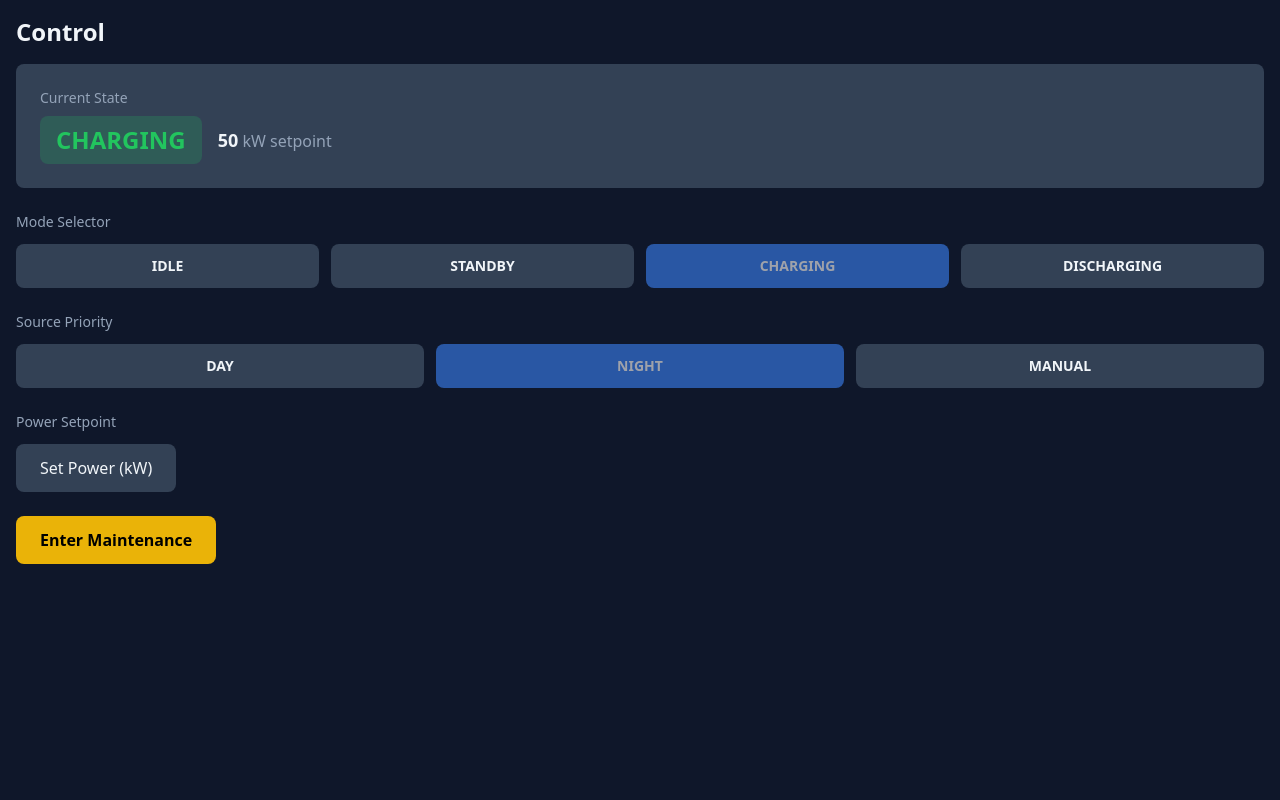
Test: ControlScreen › setpoint button opens numeric keypad
Click the button with test id "setpoint-btn" at (96, 468), box [16,444,176,492]
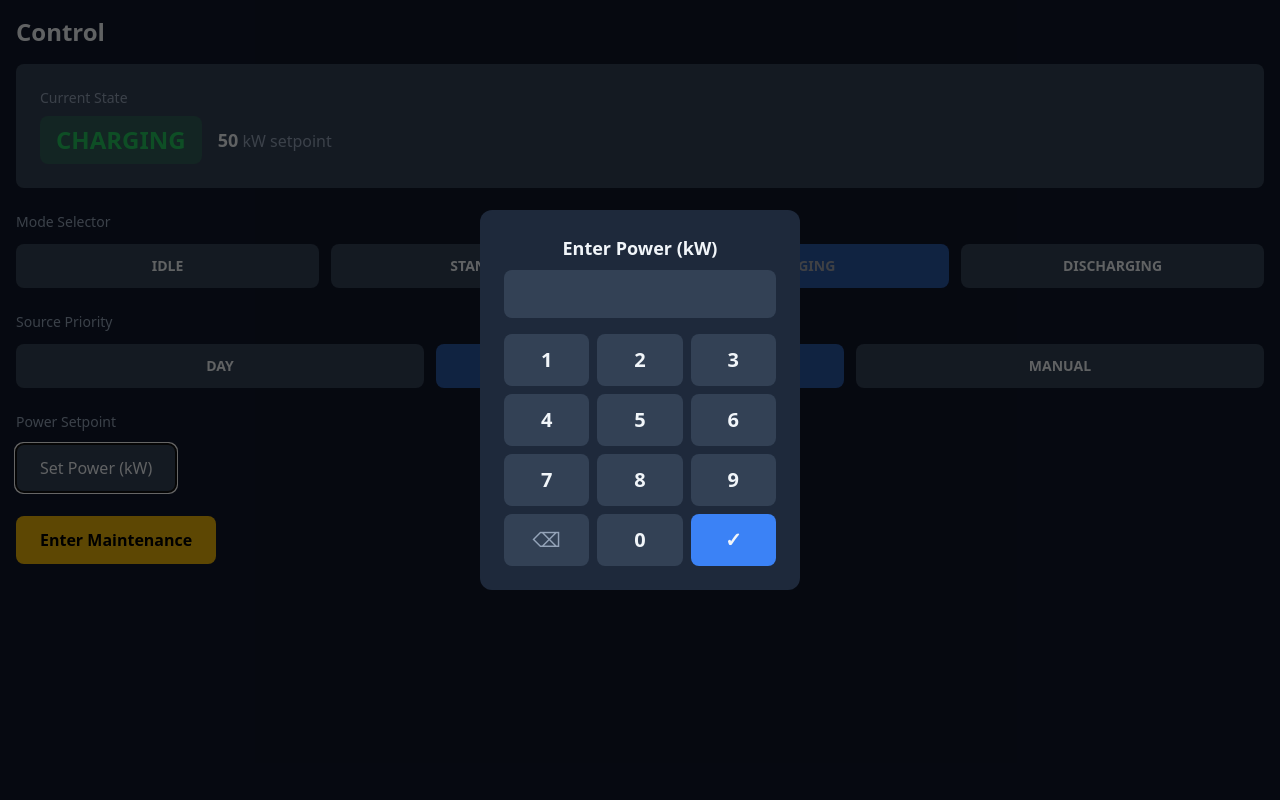
Now the element with test id "numeric-keypad" is shown
